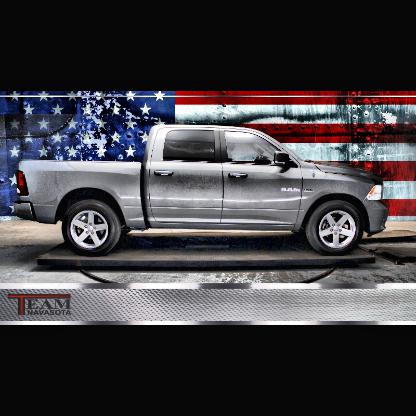Dodge Ram Pickup 3500 Crew Cab 2010: (14, 121, 388, 257)
